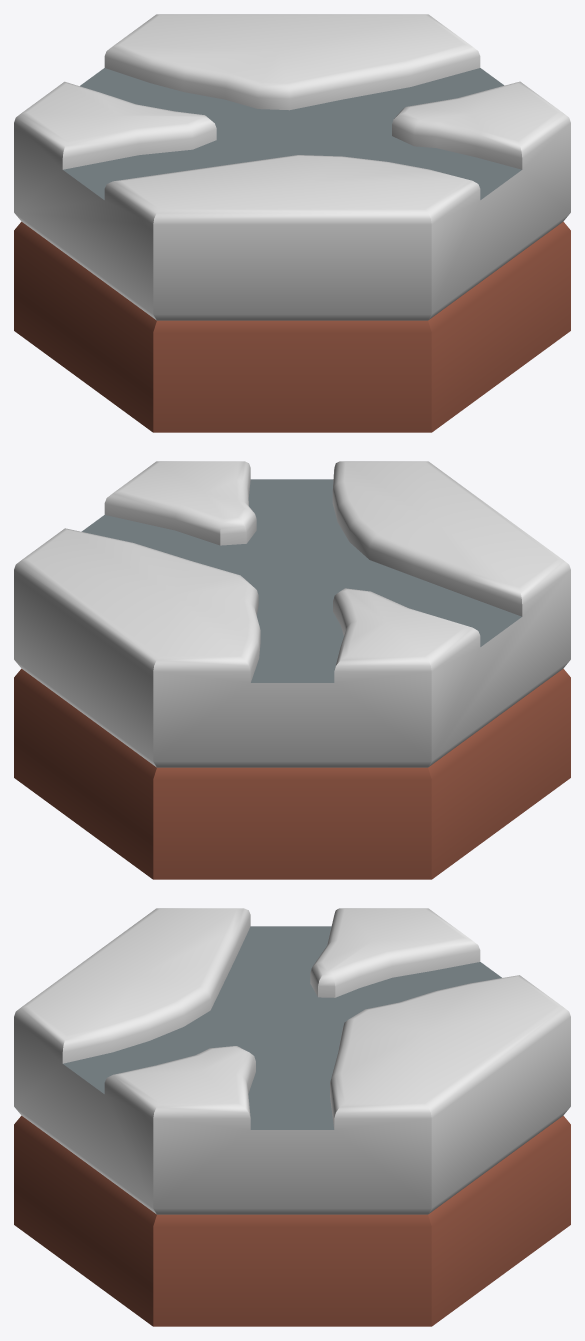
File: hex_snow_roadJ_detail.gltf.glb
The picture shows the model from 3 angles, top to bottom: view 1: azimuth 30°, elevation 25°; view 2: azimuth 150°, elevation 25°; view 3: azimuth 270°, elevation 25°; orthographic projection.
Parts seen in each view (by area): view 1: hex_snow_roadJ_detail; view 2: hex_snow_roadJ_detail; view 3: hex_snow_roadJ_detail.
Part boxes in pixels (x1=…): hex_snow_roadJ_detail: x1=14, y1=14, x2=570, y2=432; hex_snow_roadJ_detail: x1=14, y1=461, x2=570, y2=879; hex_snow_roadJ_detail: x1=14, y1=908, x2=570, y2=1326.
Bounding box in the file's own units: 2 × 1 × 2.31.
